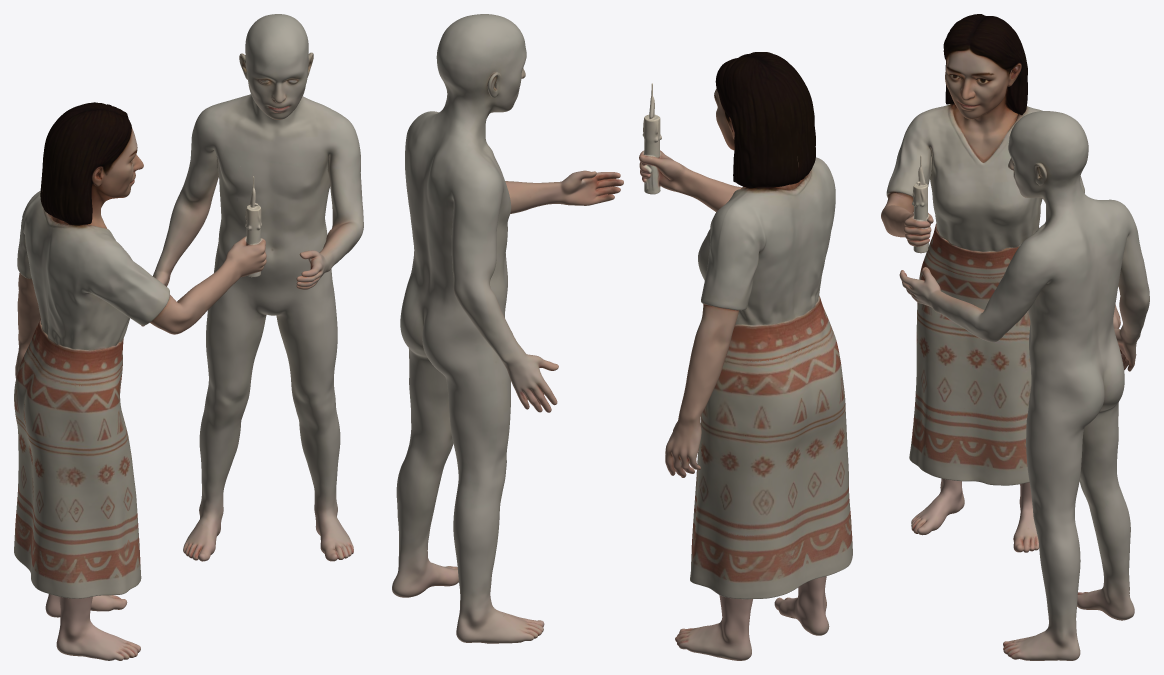
The model's file is 31-la-velita-prestada.-optimized.glb.
3 renders of one model, left to right at view 1: azimuth 30°, elevation 25°; view 2: azimuth 150°, elevation 25°; view 3: azimuth 270°, elevation 25°, orthographic. The views are drawn at different scales.
Parts seen in each view (by area): view 1: tripo_node_e75c54fc-8a4f-4871-953e-5bdc06d05b46; view 2: tripo_node_e75c54fc-8a4f-4871-953e-5bdc06d05b46; view 3: tripo_node_e75c54fc-8a4f-4871-953e-5bdc06d05b46.
Part boxes in pixels (x1=…): tripo_node_e75c54fc-8a4f-4871-953e-5bdc06d05b46: x1=14, y1=14, x2=363, y2=660; tripo_node_e75c54fc-8a4f-4871-953e-5bdc06d05b46: x1=392, y1=14, x2=852, y2=660; tripo_node_e75c54fc-8a4f-4871-953e-5bdc06d05b46: x1=881, y1=14, x2=1149, y2=660.
Size of the model in its own units: 0.6978 by 1 by 0.4685.
1 material, 1 textured.
